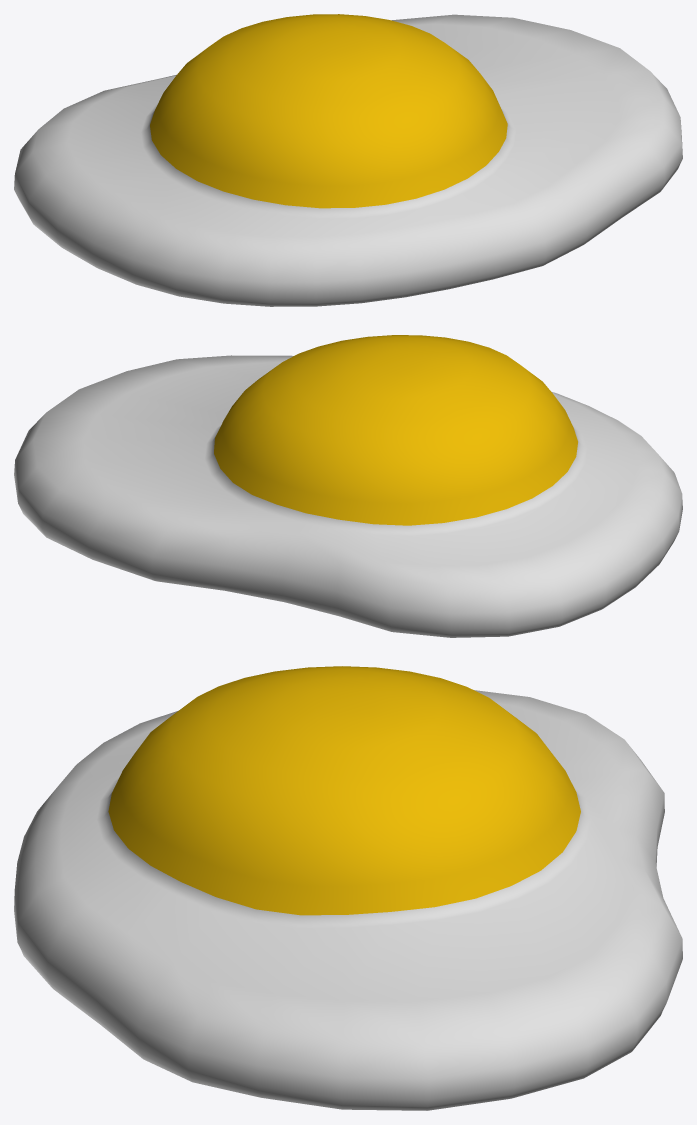
Rendered from Egg.fbx.
3 renders of one model, top to bottom at view 1: azimuth 30°, elevation 25°; view 2: azimuth 150°, elevation 25°; view 3: azimuth 270°, elevation 25°, orthographic. The views are drawn at different scales.
Parts seen in each view (by area): view 1: gummy-egg-001; view 2: gummy-egg-001; view 3: gummy-egg-001.
Boxes of the visible parts, box(x1,y1,x2,y2) form: gummy-egg-001: box(14, 14, 682, 306); gummy-egg-001: box(14, 335, 682, 637); gummy-egg-001: box(14, 666, 682, 1110).
Size of the model in its own units: 80.8 by 20.25 by 60.74.
